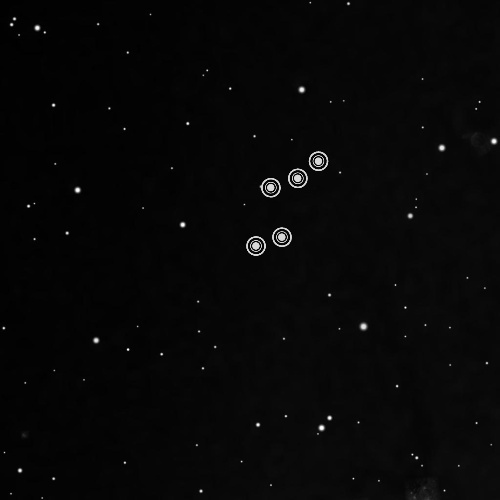lyra: (238, 144, 333, 264)
